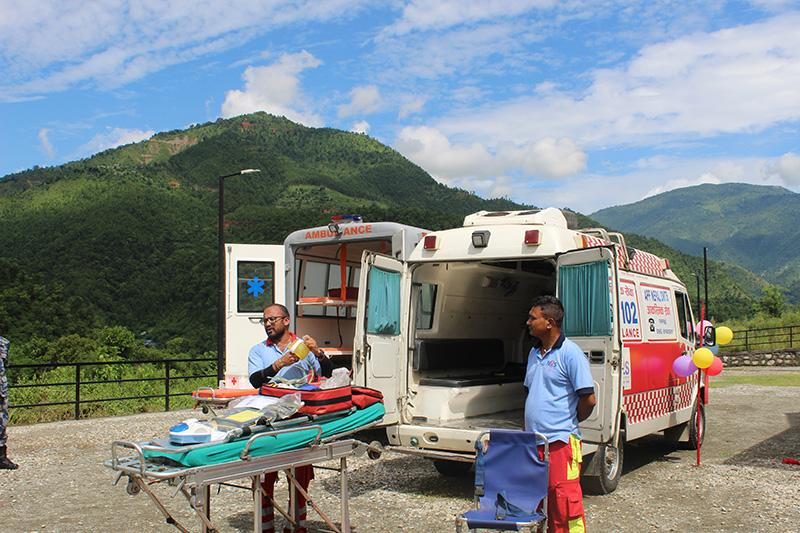ambulance: (363, 198, 728, 509)
